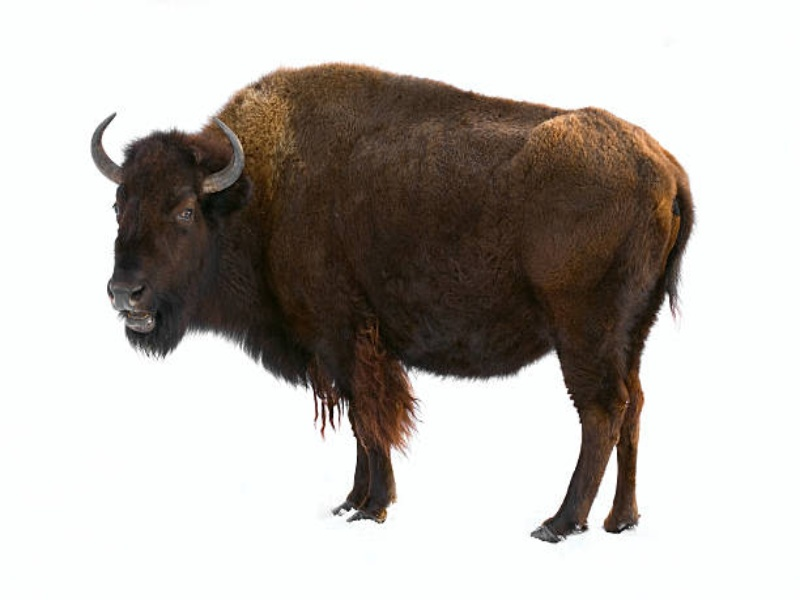buffalo: (82, 47, 699, 549)
